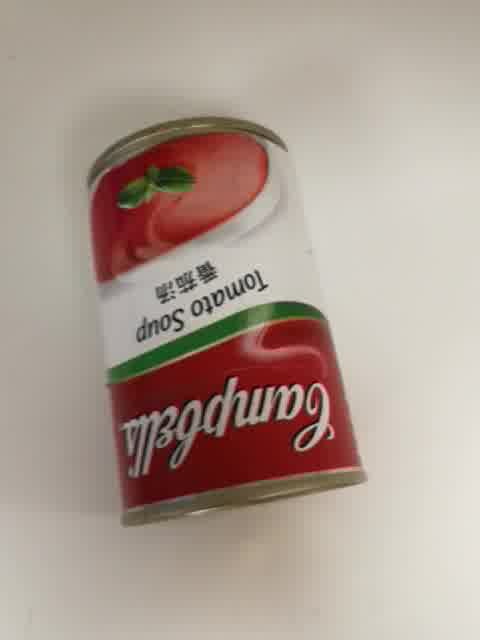tomatosoup: (84, 114, 370, 531)
